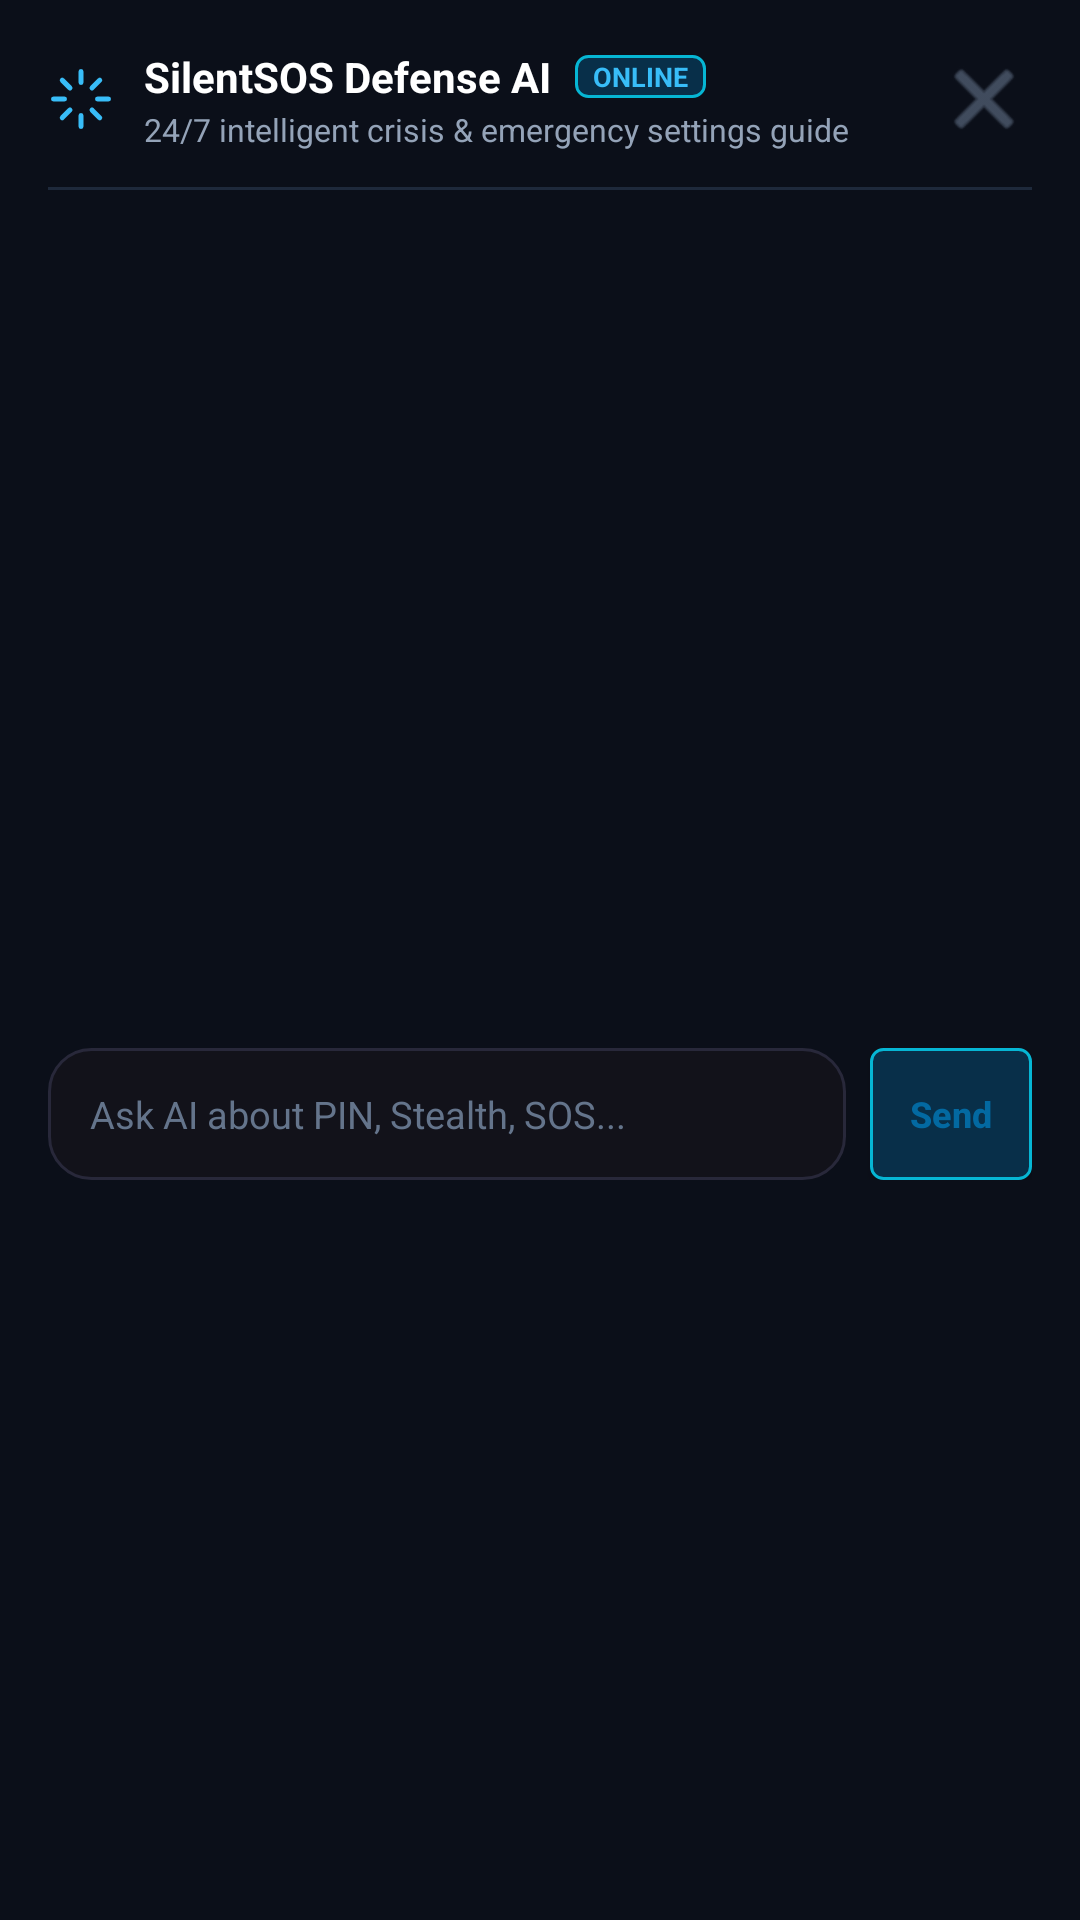

Named icons in this screenshot (1080 × 1920) and their centers, point (x, y):
Close: point (984, 99)
